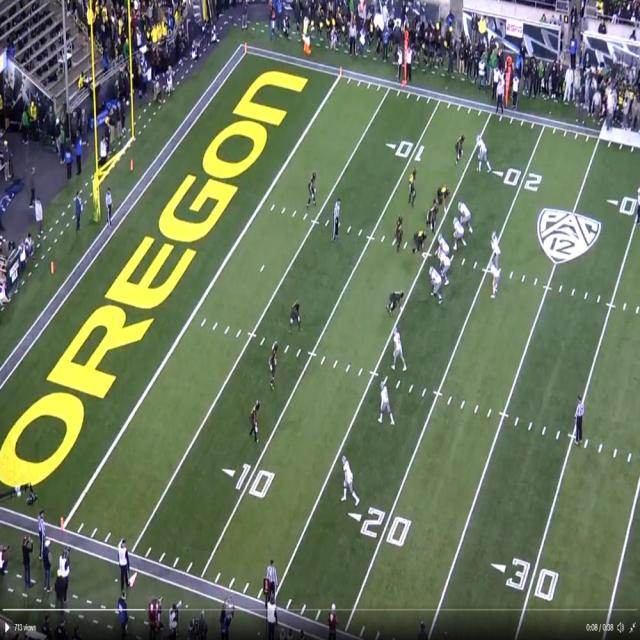center: (437, 231, 449, 253)
db: (308, 168, 318, 208), (269, 341, 277, 385), (253, 401, 262, 439), (453, 134, 464, 164), (293, 298, 300, 334)
lb: (408, 164, 418, 200), (395, 216, 404, 249)
qb: (490, 230, 499, 252)
skill: (343, 451, 358, 502), (394, 325, 408, 369), (479, 132, 491, 171), (382, 379, 392, 425), (493, 263, 502, 298)
